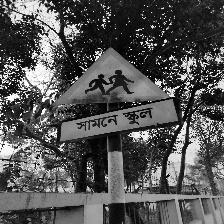School-in-front: (51, 46, 182, 145)
